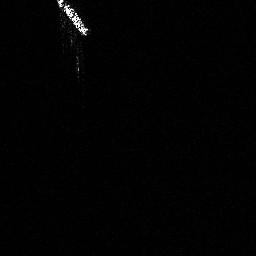ship: (52, 1, 92, 39)
